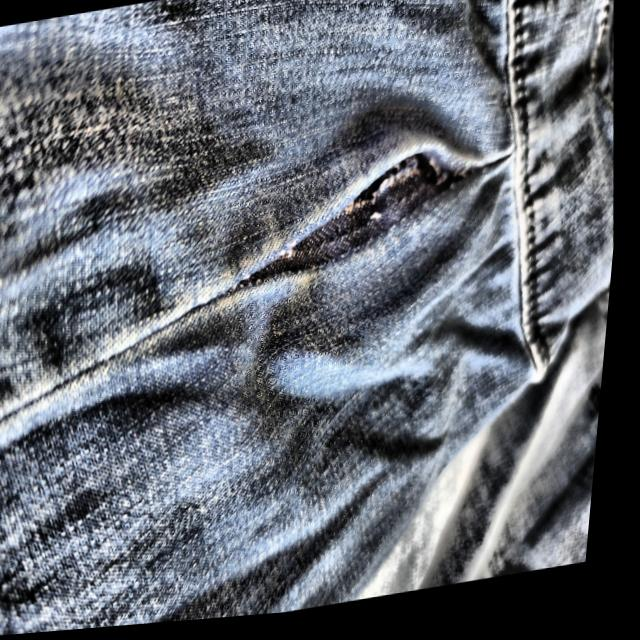seam: (206, 133, 500, 308)
